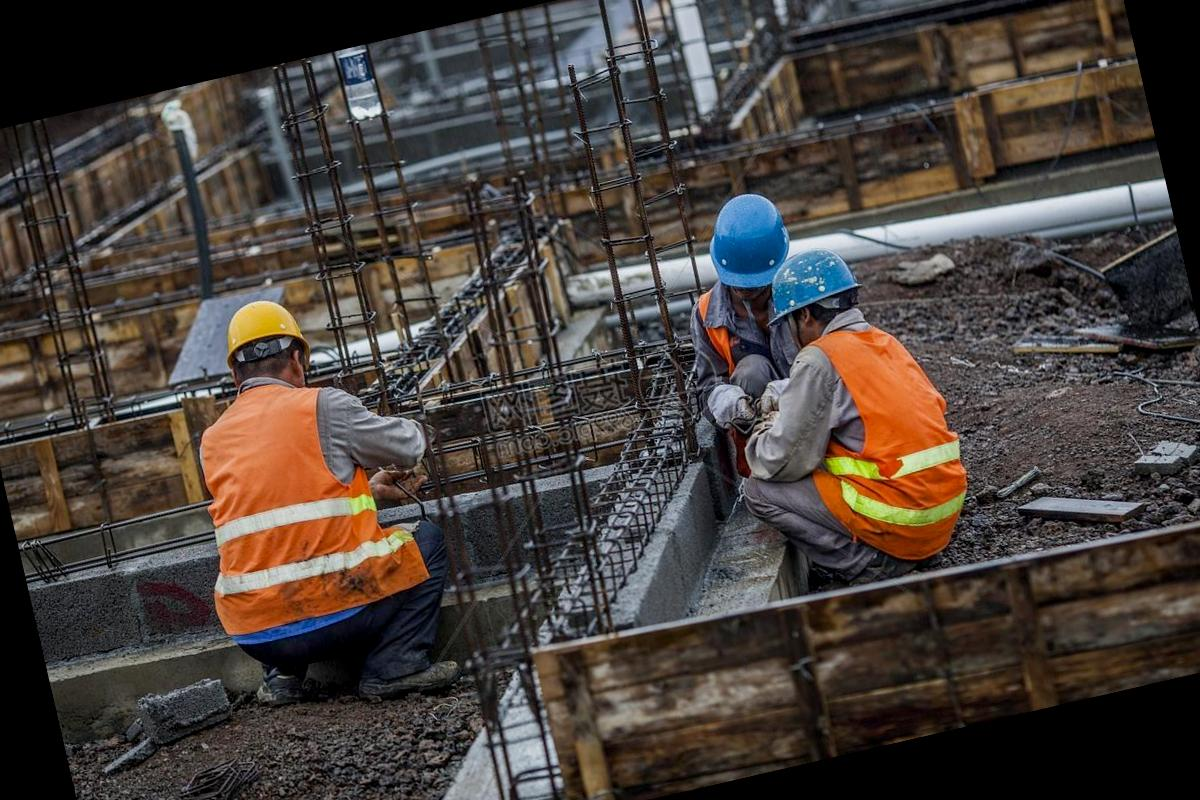helmet: (696, 185, 795, 298), (768, 238, 864, 316), (210, 290, 306, 354)
person: (129, 256, 481, 716), (682, 220, 995, 604)
